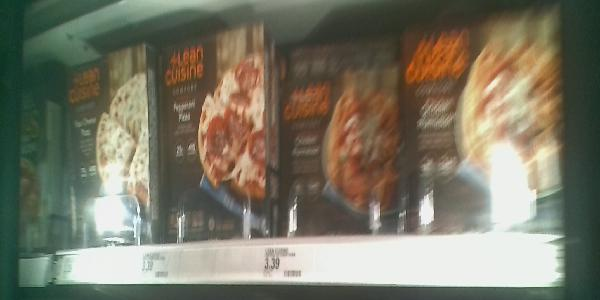pizza1: (405, 8, 562, 231), (162, 17, 280, 235), (280, 37, 404, 234), (65, 44, 159, 251)
